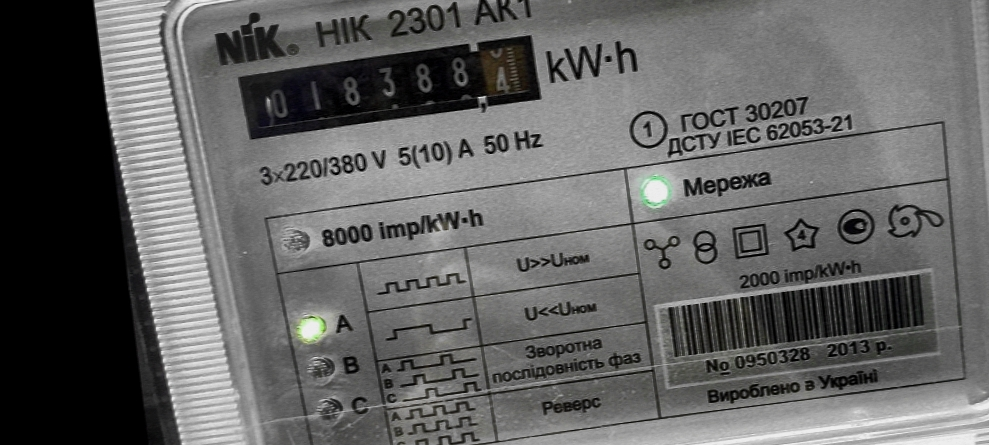0: (267, 82, 292, 121)
1: (304, 73, 327, 112)
3: (377, 62, 401, 99)
4: (490, 60, 514, 95)
8: (339, 69, 365, 108), (448, 51, 473, 89), (413, 58, 437, 96)
screen: (229, 22, 556, 151)
